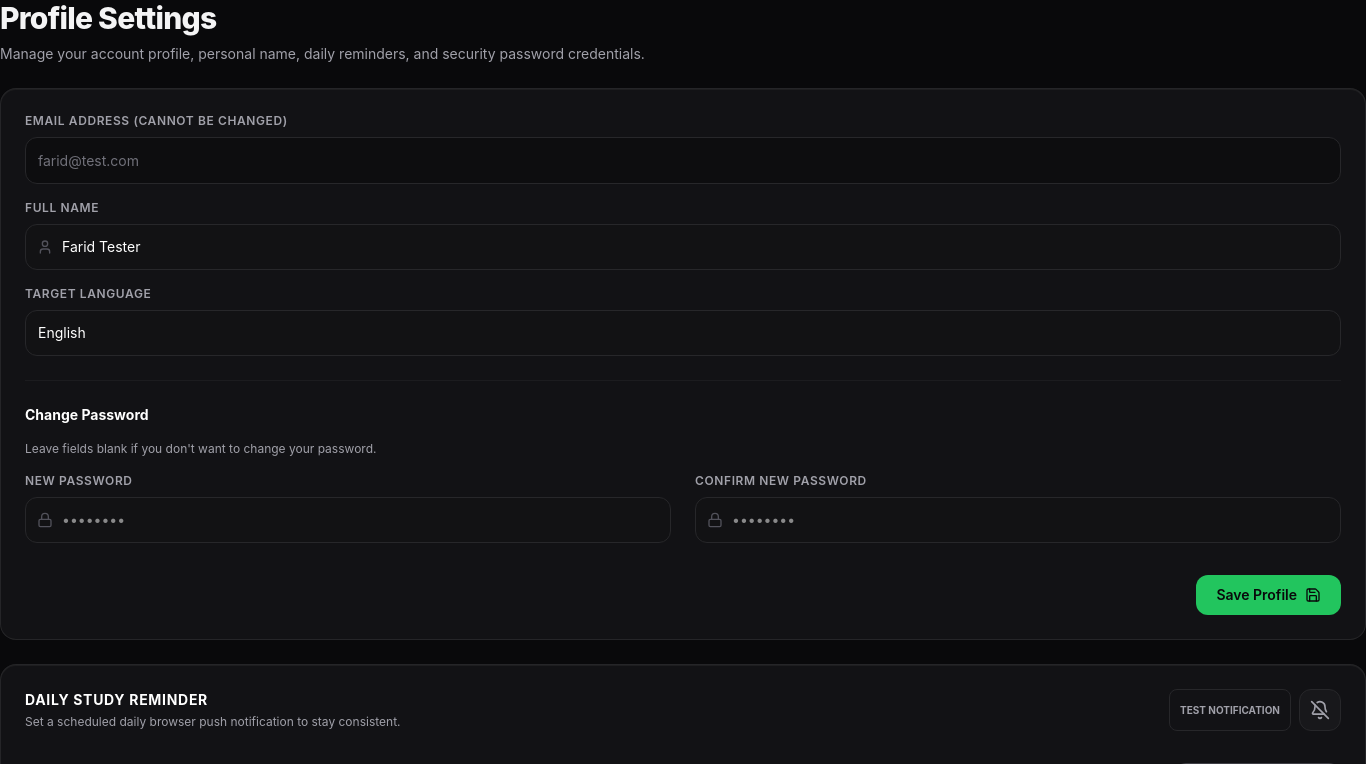
Settings Component › should show error when passwords do not match
The image size is (1366, 764).
Type "password123" into the 1st password field with placeholder "••••••••".
click(348, 520); type("password123")  # box [25,497,671,543]
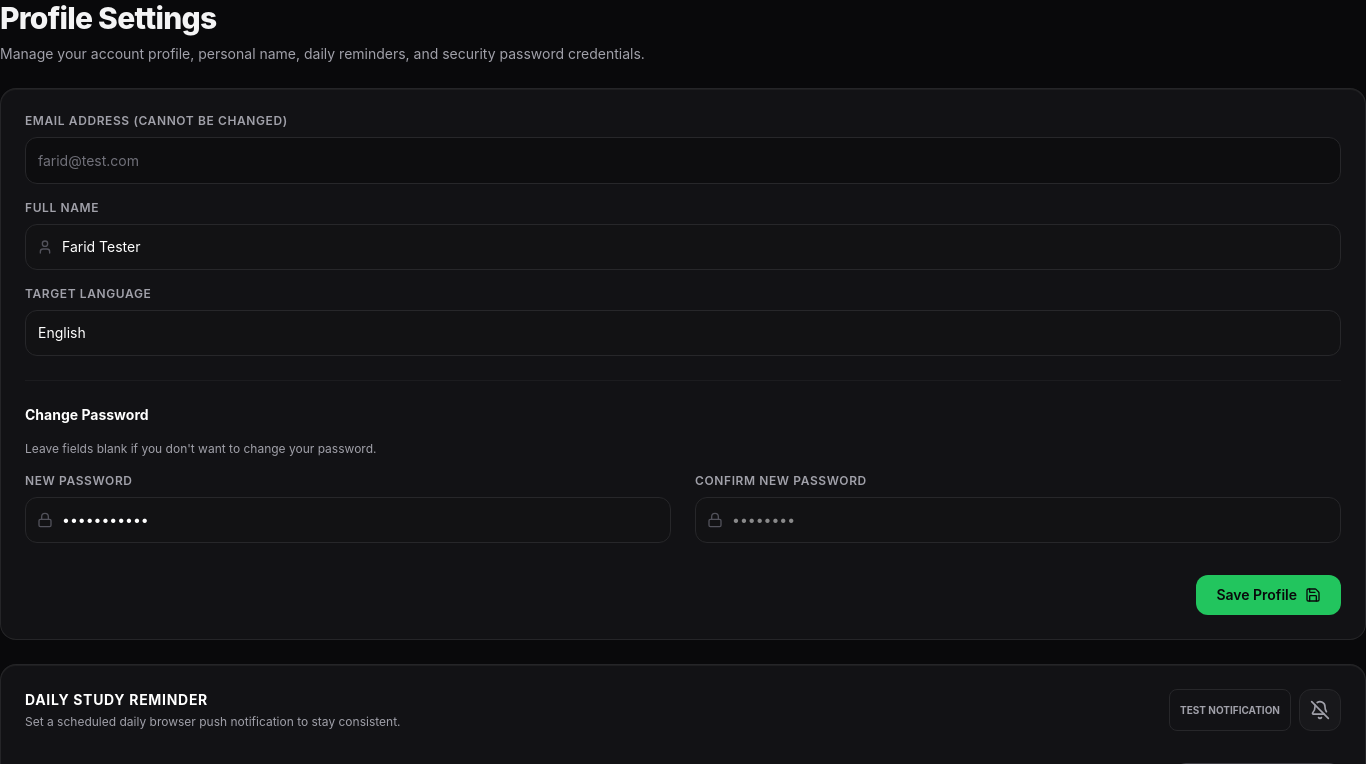
Type "different123" into the password field with placeholder "••••••••".
click(1018, 520); type("different123")  # box [695,497,1341,543]
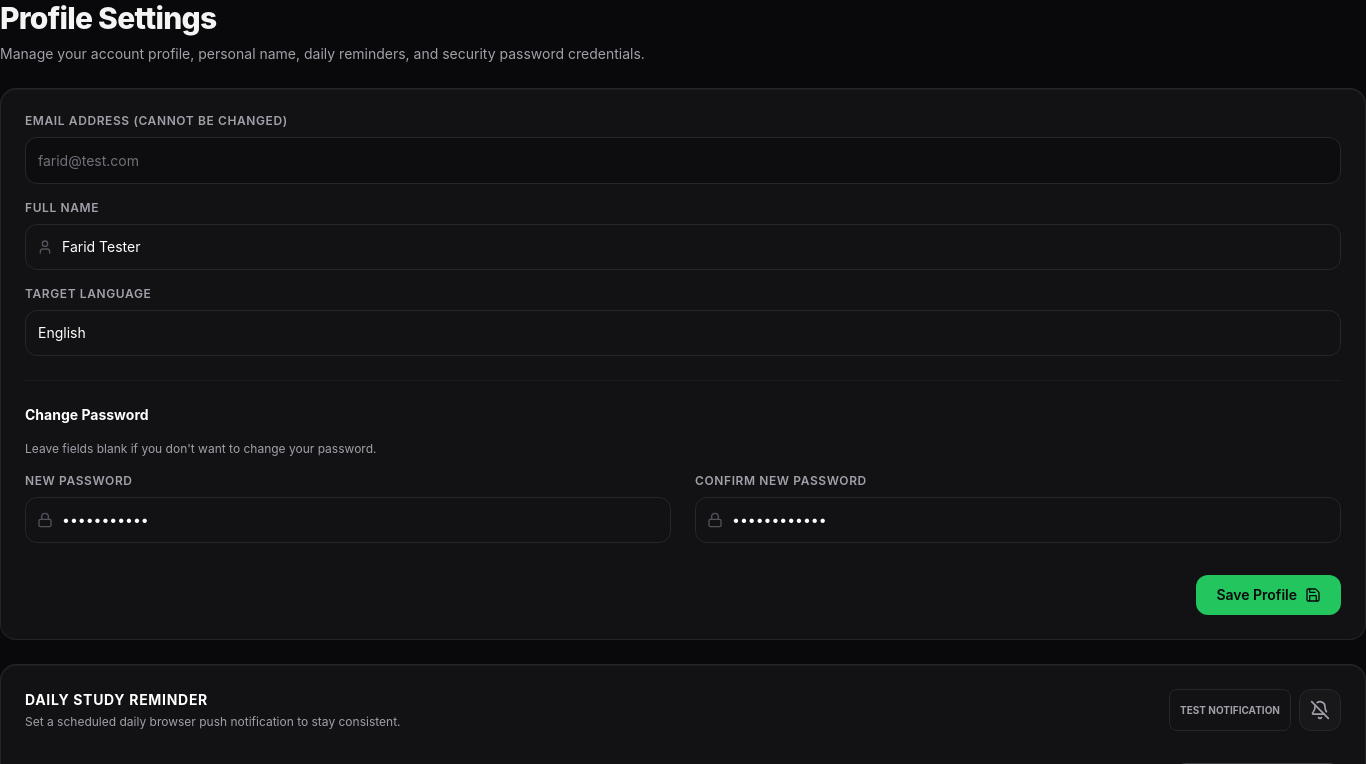
Click the button "Save Profile".
click(1269, 595)  # box [1196,575,1341,615]
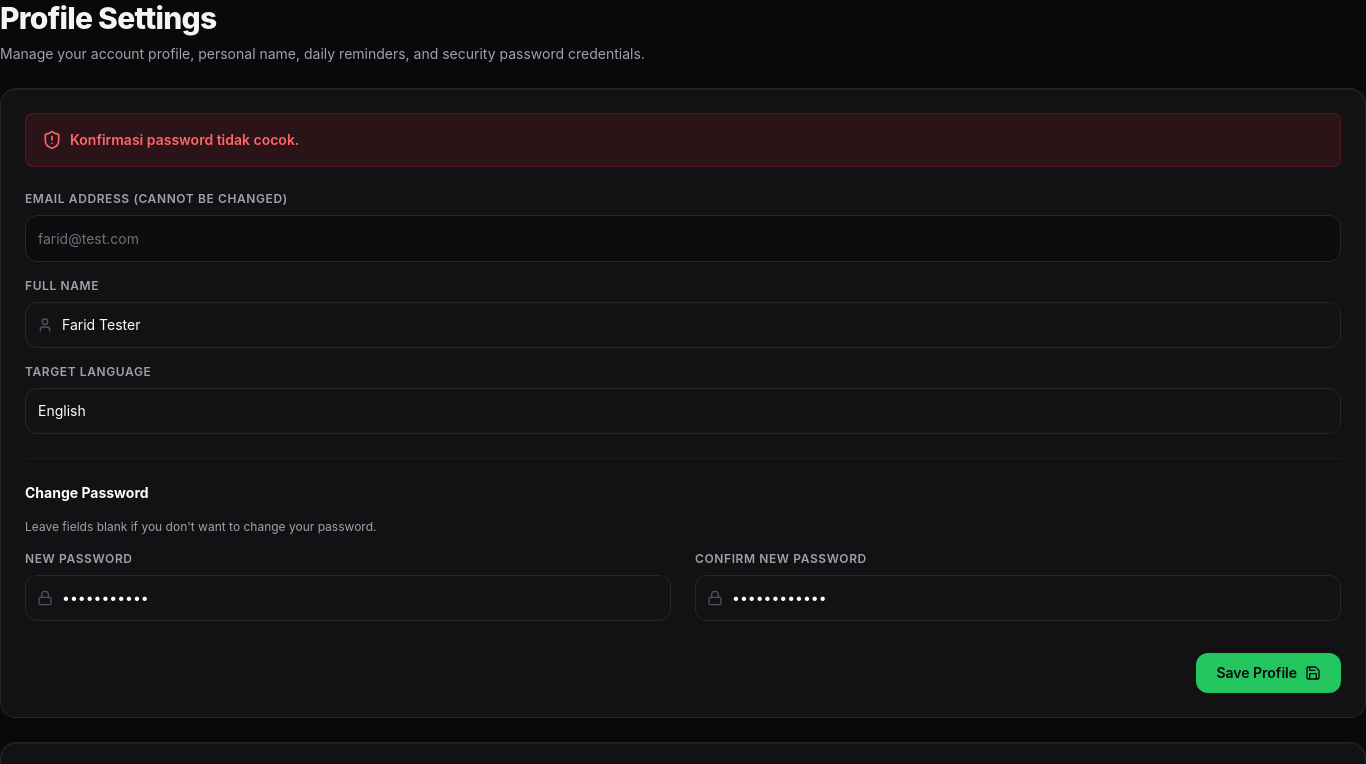
Check: the text "Konfirmasi password tidak cocok." is shown, box [25,113,1341,167]
